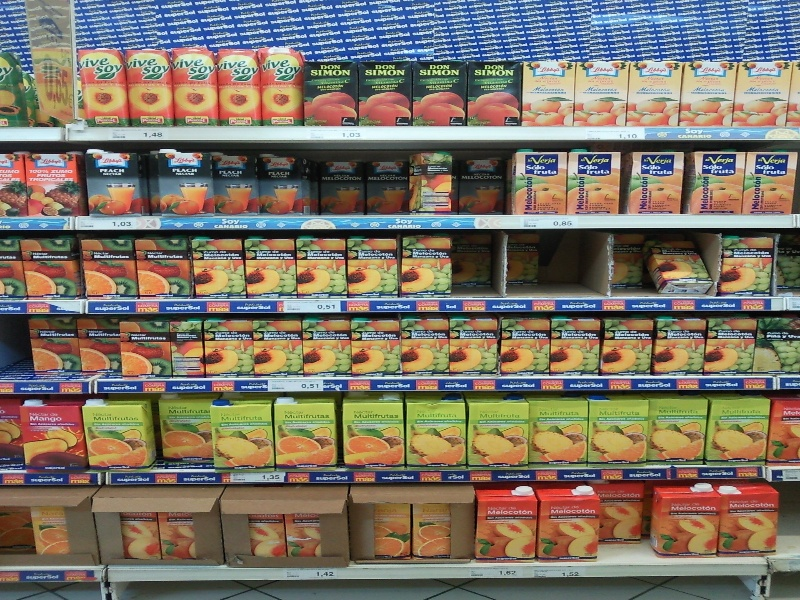juice: (82, 397, 162, 468), (207, 398, 278, 472), (16, 403, 87, 473), (537, 487, 602, 563), (340, 400, 409, 471), (472, 488, 536, 564), (717, 482, 781, 558), (274, 397, 341, 469), (653, 483, 717, 558), (468, 398, 530, 474), (20, 148, 87, 216), (83, 148, 149, 215), (409, 398, 469, 471), (156, 392, 216, 465), (78, 47, 130, 129), (732, 59, 793, 127), (529, 397, 588, 467), (121, 48, 173, 127), (521, 56, 577, 129), (157, 146, 216, 215), (357, 59, 417, 126), (513, 146, 570, 216), (589, 397, 648, 464), (709, 395, 768, 461), (687, 149, 744, 214), (649, 397, 705, 463), (215, 47, 263, 124), (680, 59, 735, 126), (304, 58, 358, 126), (466, 61, 520, 129), (260, 46, 304, 129), (568, 147, 620, 216), (170, 47, 216, 125), (413, 60, 469, 124), (629, 60, 682, 127), (625, 150, 680, 213), (575, 61, 628, 126)
